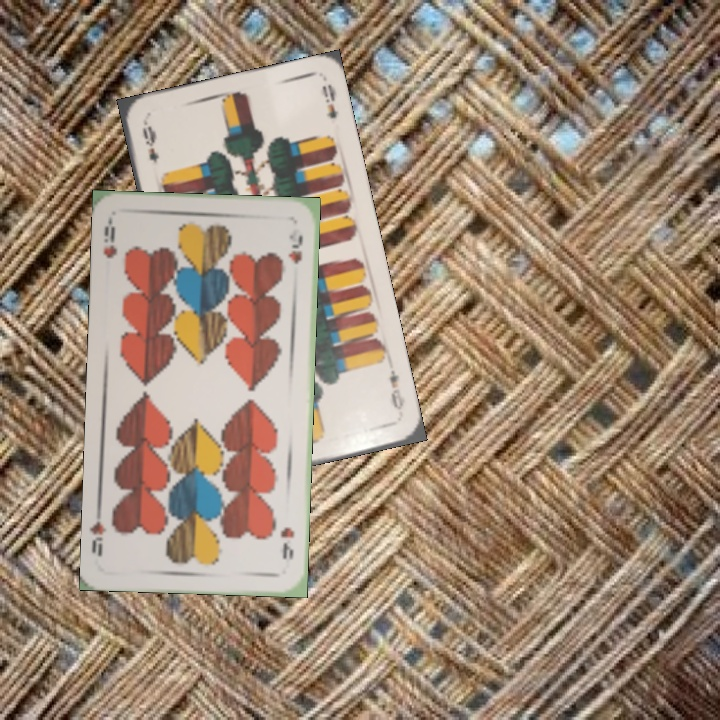E9: (384, 360, 408, 412), (138, 118, 162, 165)
H9: (99, 215, 119, 260), (277, 523, 297, 563)
